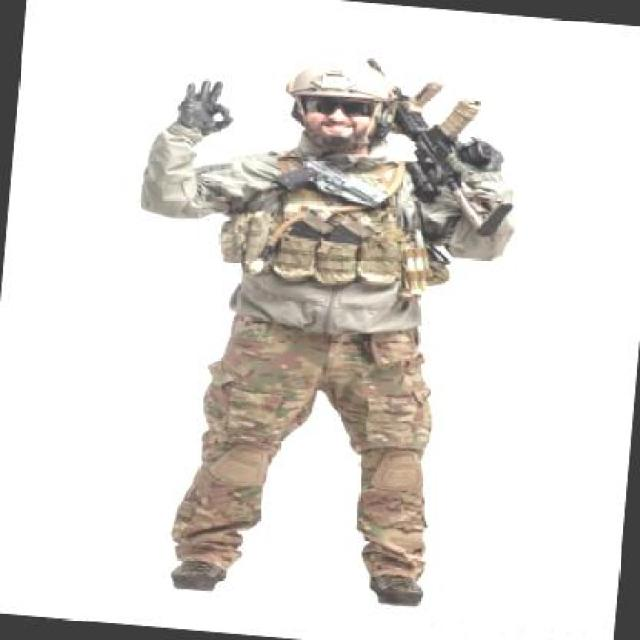MIL_Pax: (99, 41, 526, 616)
